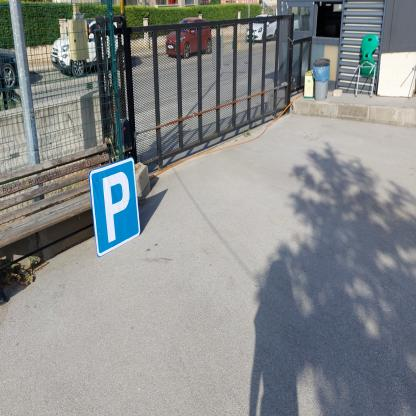Parking-Sign: (89, 158, 143, 260)
